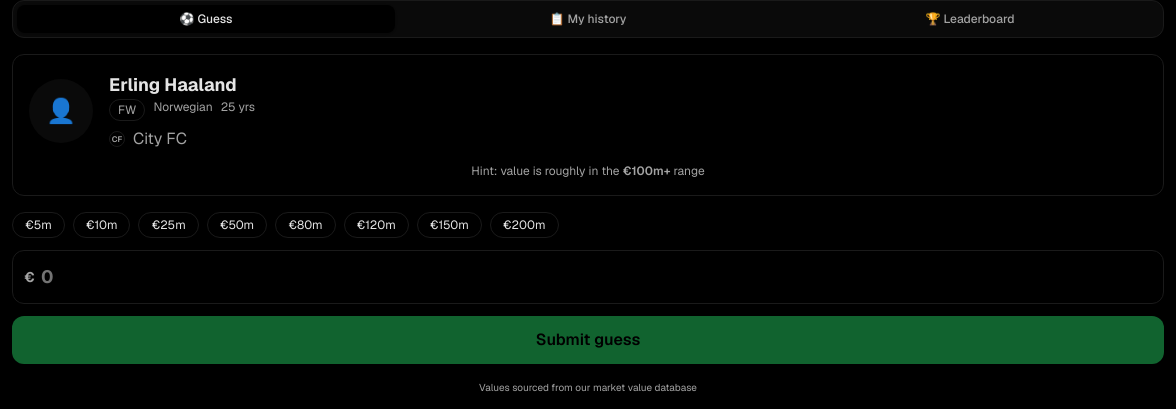
Test case: ValueQuizContent › switches to history tab and shows attempts
Click the button "📋 My history" at [588, 19], box [399, 5, 777, 33]
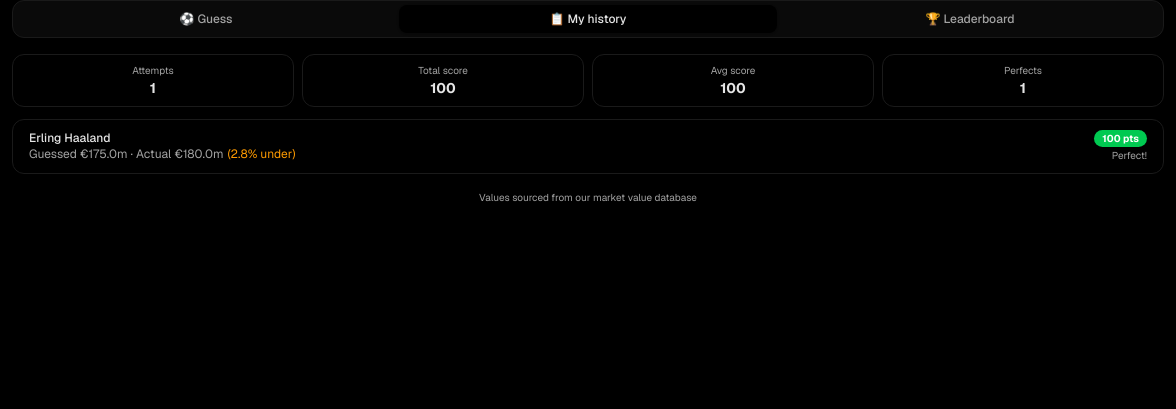
Expected: the text "Erling Haaland" is shown, [29, 130, 110, 146]
Now the text "Guessed €175.0m · Actual €180.0m(2.8% under)" is shown, box [29, 146, 296, 162]
